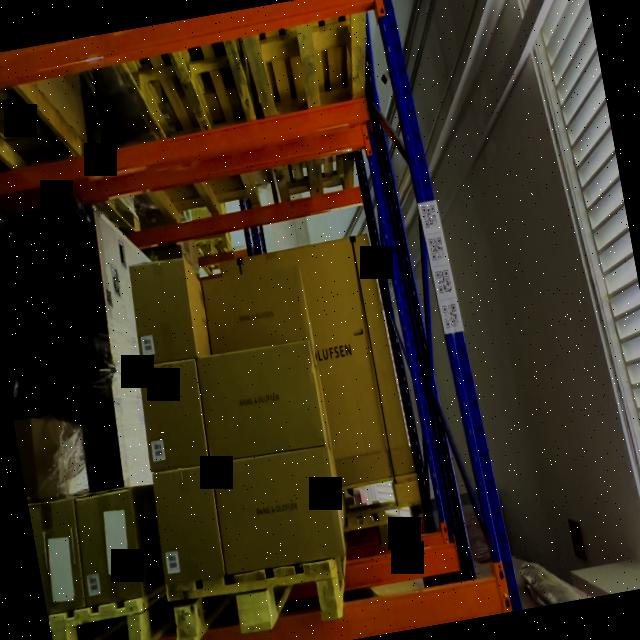box: (215, 445, 338, 572), (197, 347, 321, 464), (201, 259, 310, 358), (153, 467, 224, 586), (138, 357, 210, 471), (130, 260, 195, 362)
